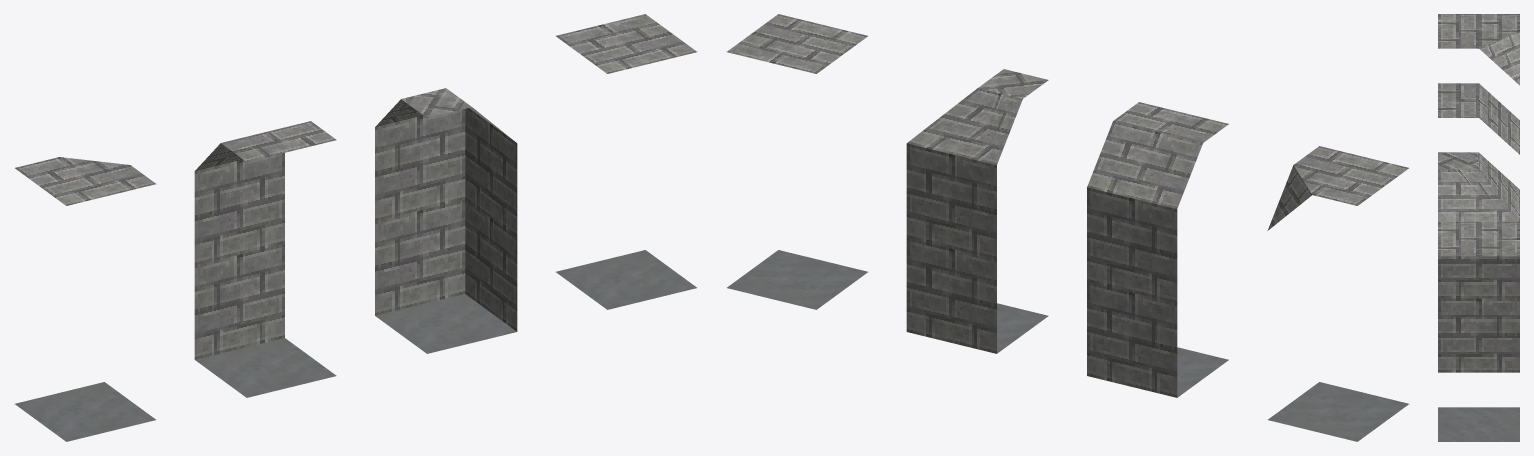
Rendered from tileset.glb.
The picture shows the model from 3 angles, left to right: view 1: azimuth 30°, elevation 25°; view 2: azimuth 150°, elevation 25°; view 3: azimuth 270°, elevation 25°; orthographic projection. The views are drawn at different scales.
Parts seen in each view (by area): view 1: corner-in-col, wall-col, floor-col, corner-out-col; view 2: wall-col, corner-in-col, corner-out-col, floor-col; view 3: corner-in-col, floor-col, corner-out-col, wall-col.
Part boxes in pixels (<box>): corner-in-col: <box>375,88,517,353</box>; wall-col: <box>194,121,336,397</box>; floor-col: <box>556,14,696,309</box>; corner-out-col: <box>15,157,155,441</box>; wall-col: <box>1087,102,1228,397</box>; corner-in-col: <box>906,69,1048,353</box>; corner-out-col: <box>1267,146,1408,441</box>; floor-col: <box>727,14,867,309</box>; corner-in-col: <box>1438,152,1519,372</box>; floor-col: <box>1438,221,1519,441</box>; corner-out-col: <box>1438,14,1519,85</box>; wall-col: <box>1438,83,1519,154</box>.
Bounding box in the file's own units: 7 × 2.5 × 1.
1 material, 1 textured.
